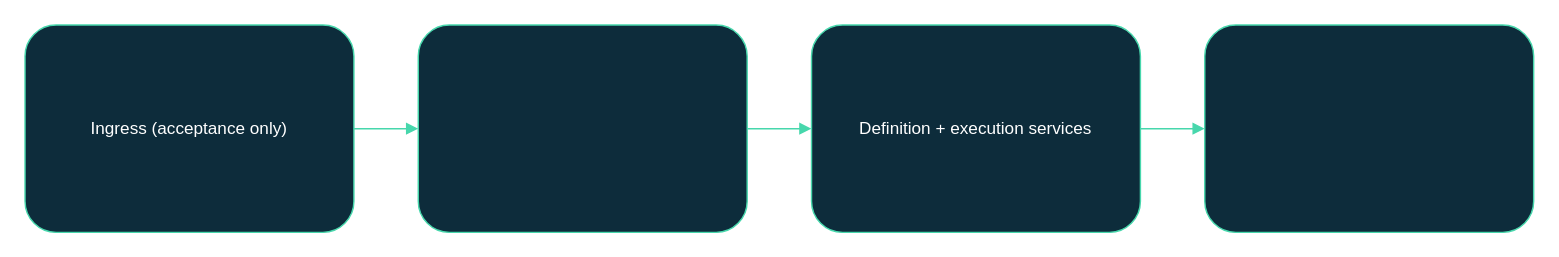
Some shapes in this 1559 by 257 pixel diagram are drawn without their labels. Here are the shapes that lost their labels. From the top down, the centre of each, then its label:
At (582,128): "Studio host".
At (1368,128): "Data plane".
